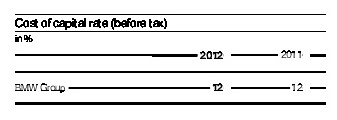table: (0, 0, 337, 120)
